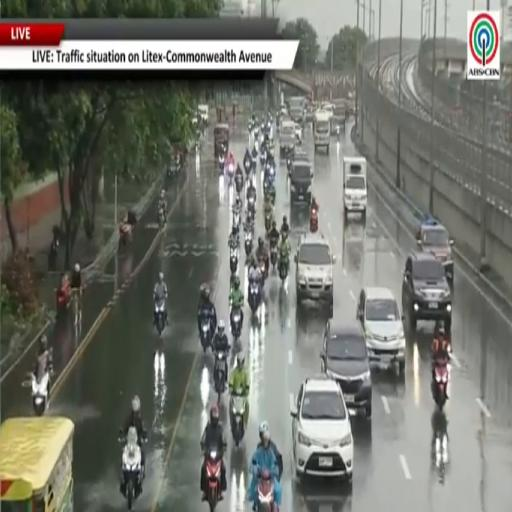bus: (0, 416, 74, 511)
car: (291, 375, 353, 484), (321, 322, 372, 420), (357, 287, 405, 376), (402, 251, 452, 331), (295, 232, 335, 312), (417, 219, 453, 284), (290, 158, 312, 204), (287, 147, 310, 175), (197, 103, 209, 126), (295, 123, 302, 145)
jeepney: (215, 123, 229, 159)
motorcycle: (119, 427, 143, 510), (205, 450, 221, 511), (230, 390, 246, 447), (432, 361, 449, 410), (31, 372, 49, 415), (258, 470, 276, 511), (214, 351, 226, 402), (56, 282, 71, 314), (200, 317, 211, 353), (248, 281, 260, 313), (48, 237, 59, 271), (230, 308, 242, 339), (155, 299, 165, 335), (119, 222, 132, 245), (258, 259, 269, 282), (230, 247, 238, 274), (279, 260, 288, 283), (245, 232, 253, 257), (270, 245, 278, 269), (310, 208, 318, 232), (264, 212, 272, 235), (266, 164, 275, 183), (235, 174, 242, 196), (227, 163, 234, 185), (233, 211, 240, 231), (244, 158, 251, 177), (159, 208, 165, 230), (247, 206, 255, 222), (252, 140, 258, 161), (248, 195, 255, 212), (219, 155, 225, 174), (286, 157, 292, 175), (248, 120, 254, 136), (260, 151, 266, 165), (254, 124, 259, 138)
truck: (343, 156, 367, 220), (313, 110, 330, 152), (280, 119, 295, 156), (288, 96, 305, 123)
